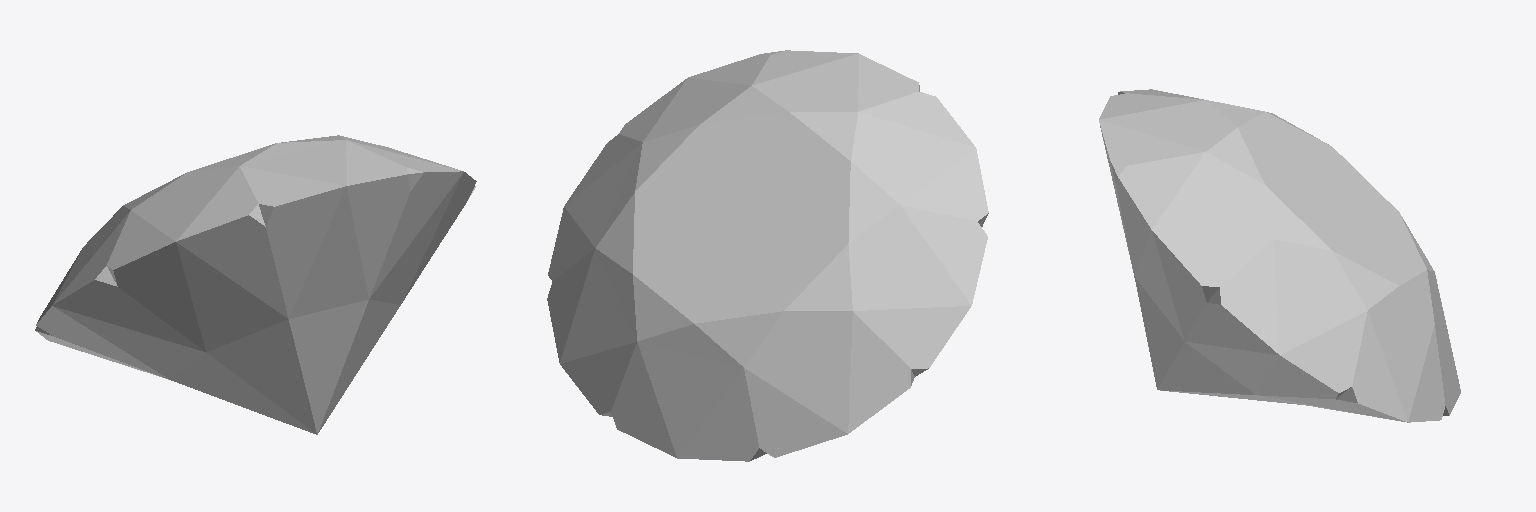
The model's file is demo_diamond4.obj.
3 renders of one model, left to right at view 1: azimuth 30°, elevation 25°; view 2: azimuth 150°, elevation 25°; view 3: azimuth 270°, elevation 25°, orthographic.
Parts seen in each view (by area): view 1: Mesh5; view 2: Mesh5; view 3: Mesh5.
Boxes of the visible parts, <box> form: Mesh5: <box>35,135,476,434</box>; Mesh5: <box>547,50,988,461</box>; Mesh5: <box>1099,89,1460,422</box>.
Bounding box in the file's own units: 3.1 × 1.98 × 2.39.